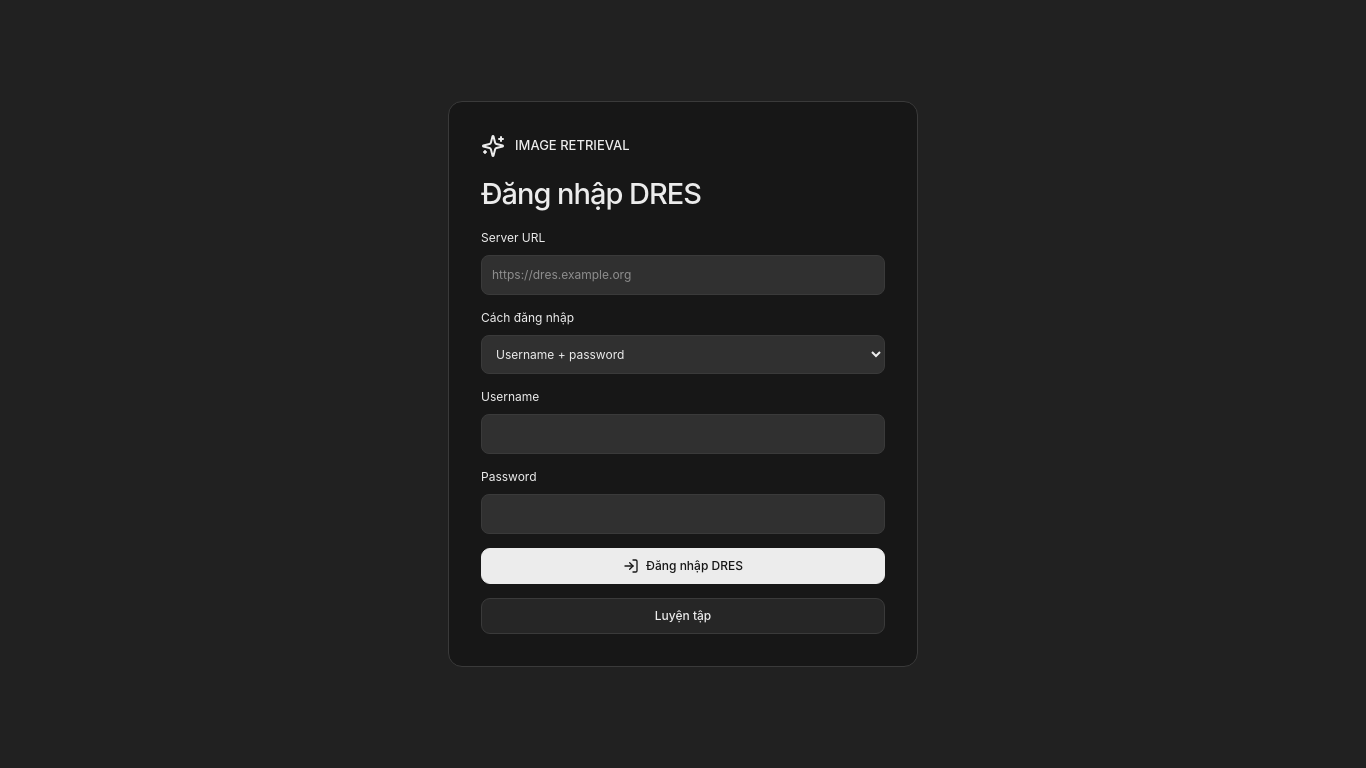
Test: image workbench entry and shortcuts › logs in, selects a returned evaluation, and keeps credentials out of browser storage
Type "https://dres.test" into the field labelled "Server URL".
click(683, 275); type("https://dres.test")  # box x1=481 y1=255 x2=885 y2=295
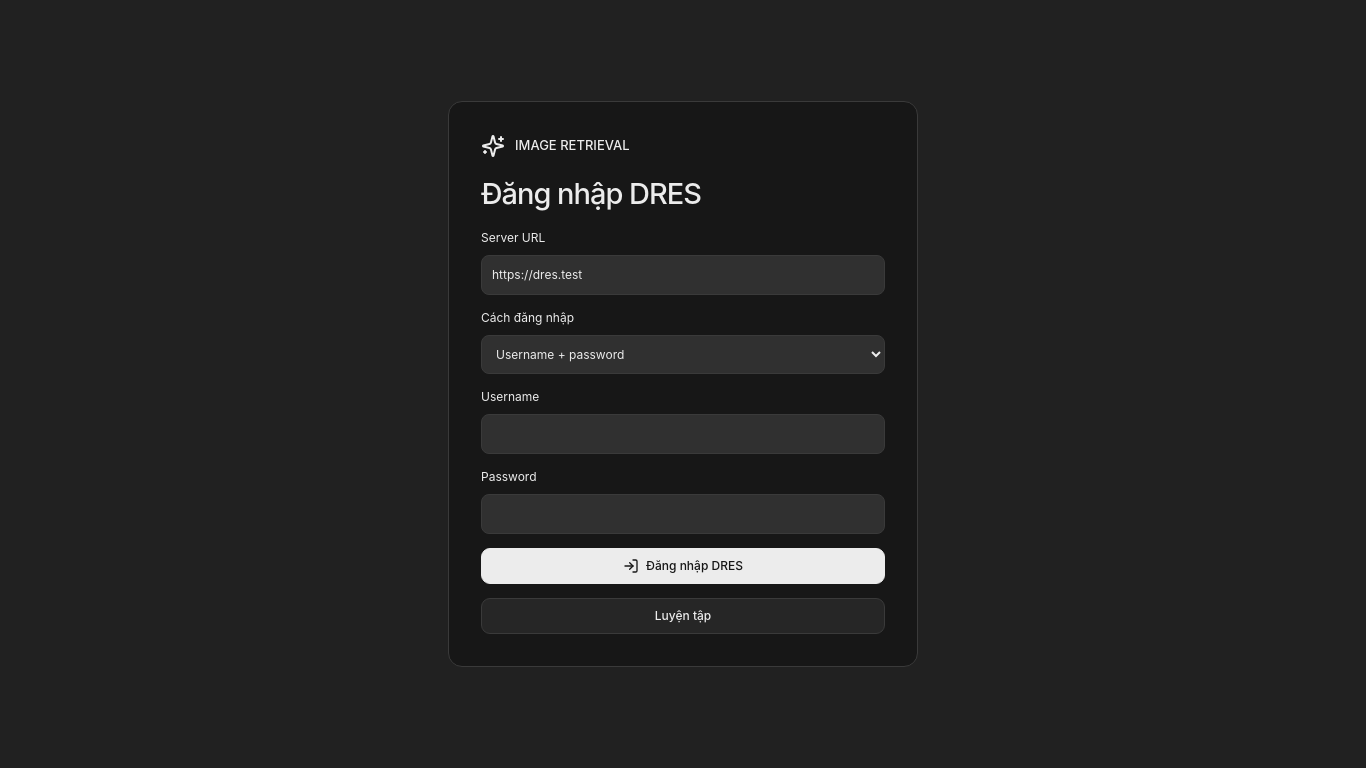
Type "tester" into the field labelled "Username".
click(683, 434); type("tester")  # box x1=481 y1=414 x2=885 y2=454
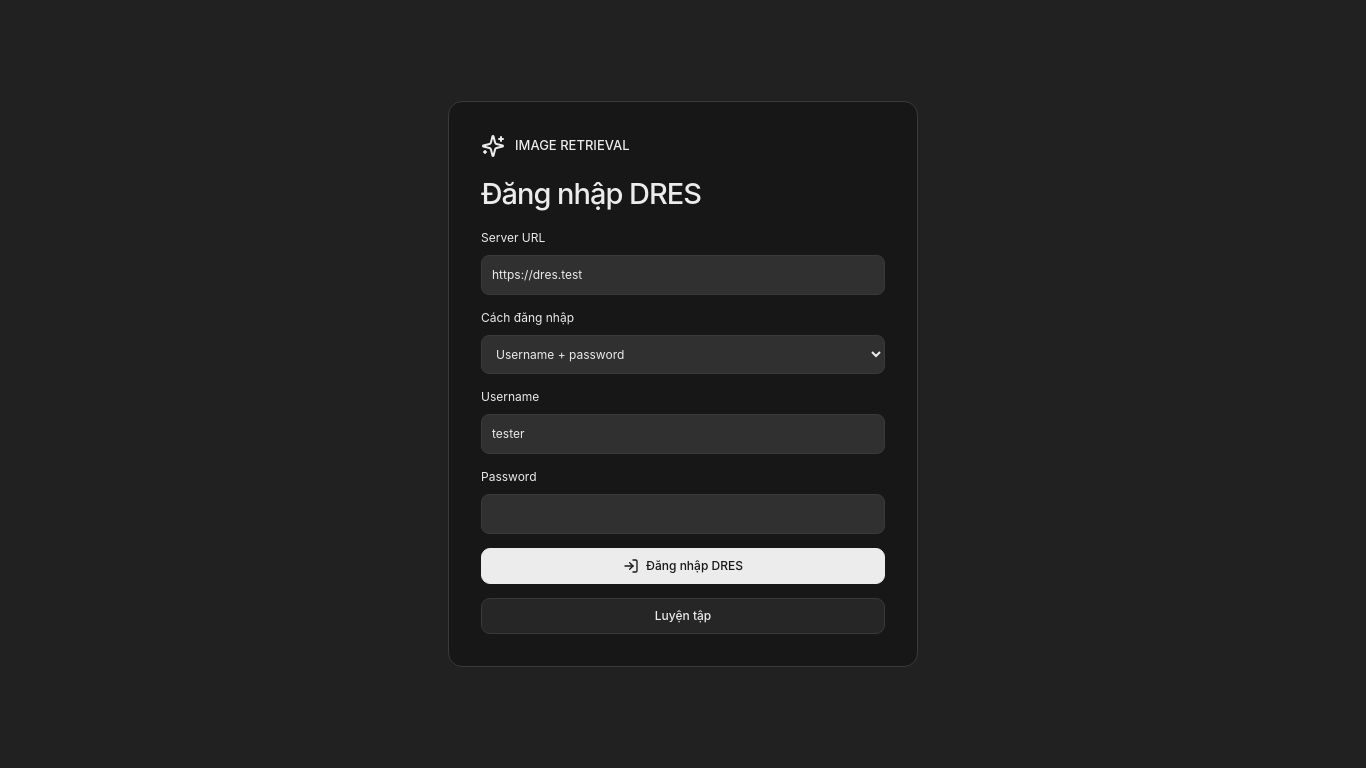
Type "private-password" into the password field labelled "Password".
click(683, 514); type("private-password")  # box x1=481 y1=494 x2=885 y2=534
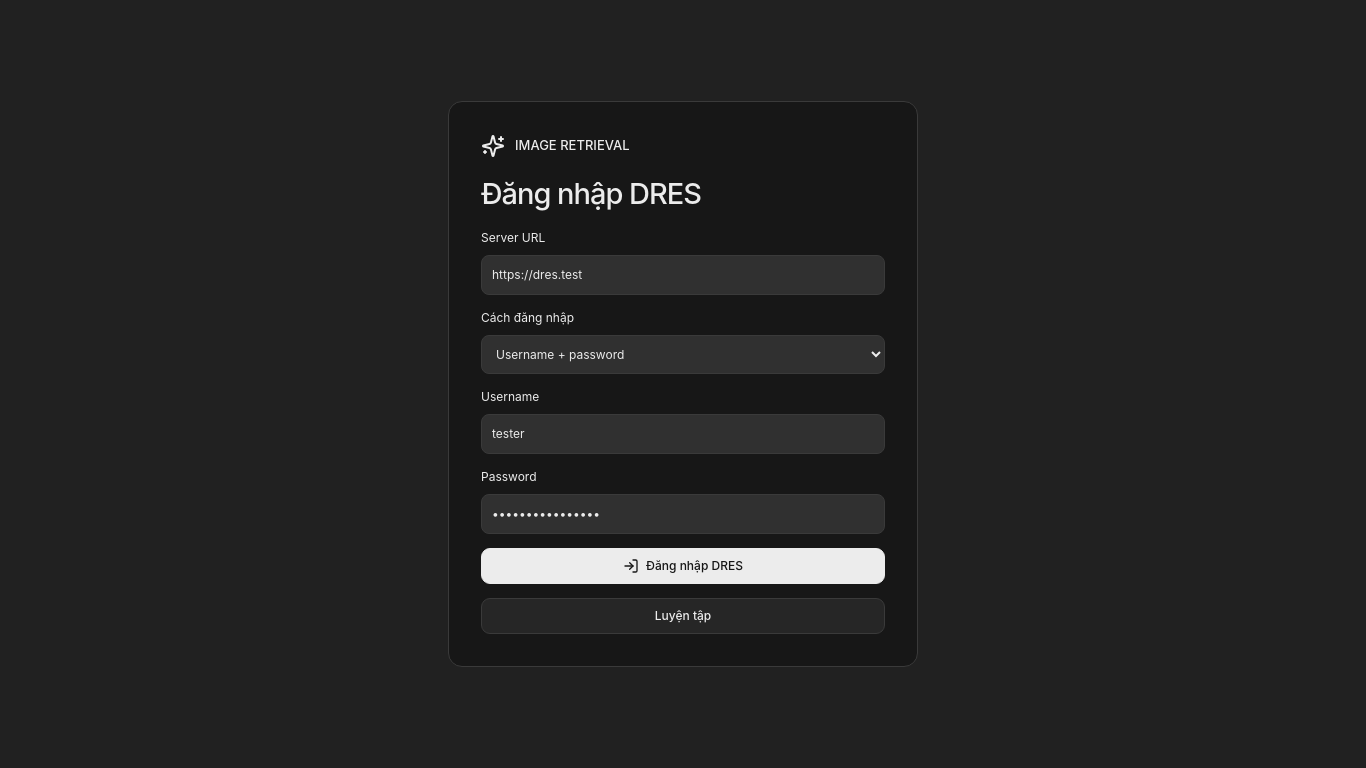
Click the button "Đăng nhập DRES".
click(683, 566)  # box x1=481 y1=548 x2=885 y2=584
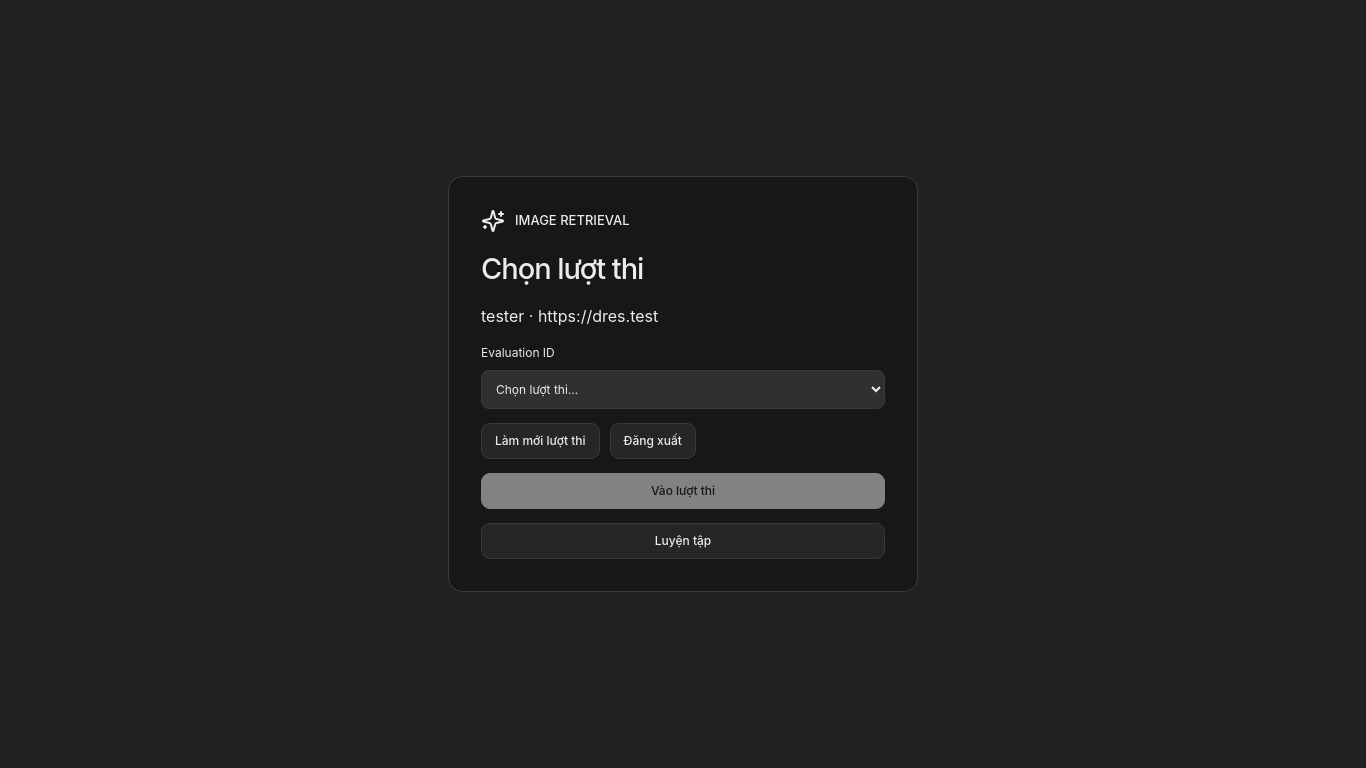
Select "Thi thử · ACTIVE · run1" in the dropdown named "Lượt thi DRES" at (683,390), box x1=481 y1=370 x2=885 y2=409
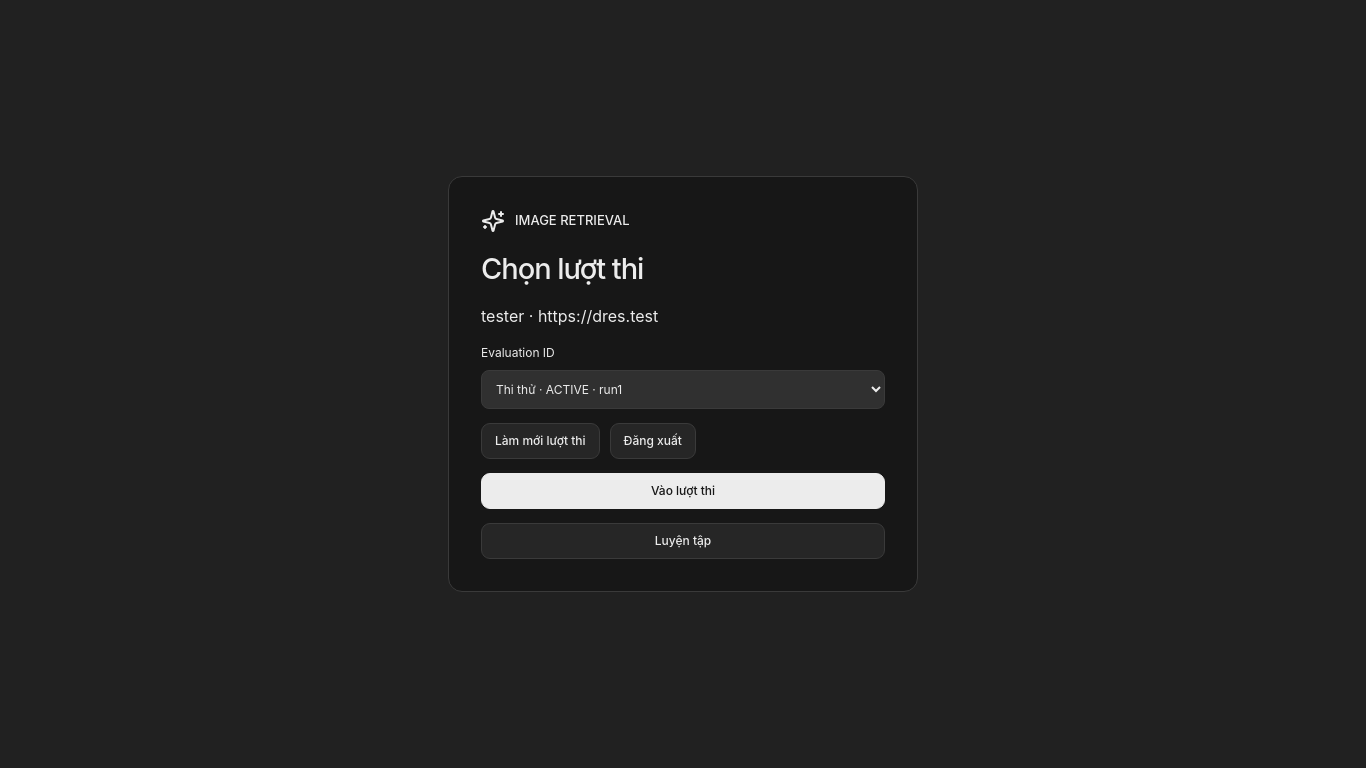
Click the button "Vào lượt thi".
click(683, 491)  # box x1=481 y1=473 x2=885 y2=509
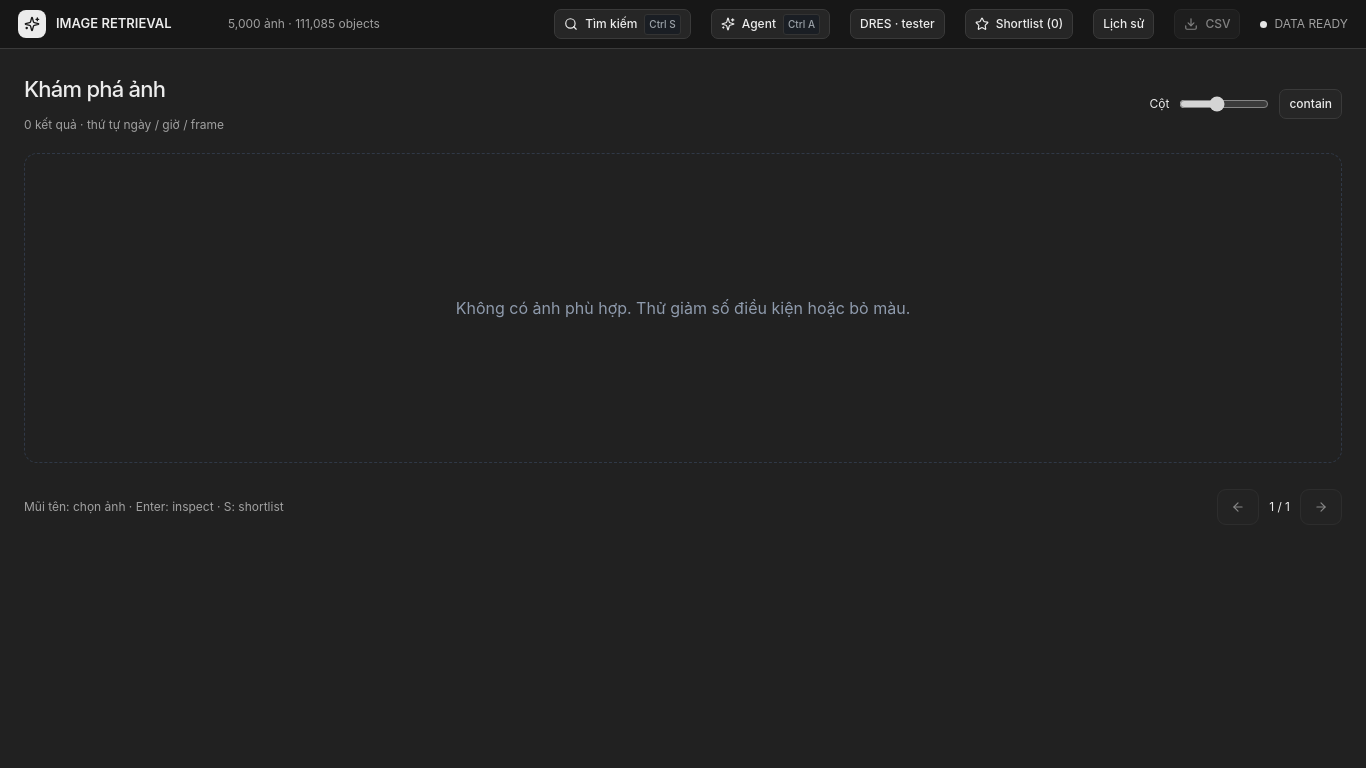
expect the heading "Khám phá ảnh" is shown: met, box x1=24 y1=76 x2=165 y2=102
expect the button "DRES · tester" is shown: met, box x1=850 y1=9 x2=945 y2=39
